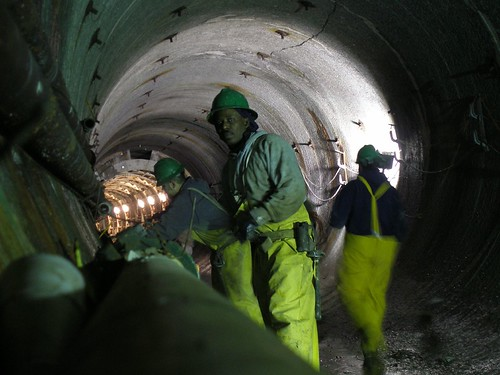person hardhat: (202, 85, 328, 375), (148, 158, 262, 329), (328, 140, 400, 375)
